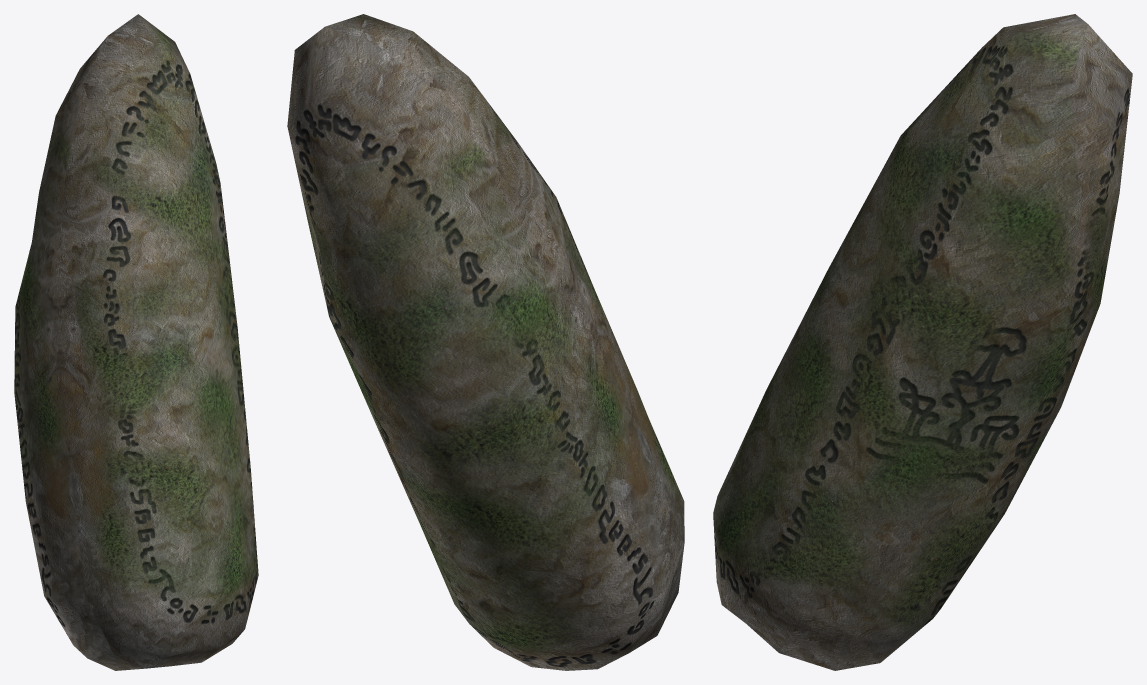
The model's file is RuneGlowStone7Shape.dae.
The picture shows the model from 3 angles, left to right: view 1: azimuth 30°, elevation 25°; view 2: azimuth 150°, elevation 25°; view 3: azimuth 270°, elevation 25°; orthographic projection. The views are drawn at different scales.
Visible parts, largest first — view 1: RuneGlowStone7; view 2: RuneGlowStone7; view 3: RuneGlowStone7.
Boxes of the visible parts, x1=… form: RuneGlowStone7: x1=14, y1=14, x2=258, y2=670; RuneGlowStone7: x1=287, y1=14, x2=684, y2=670; RuneGlowStone7: x1=713, y1=14, x2=1132, y2=670.
Size of the model in its own units: 3.87 by 9.35 by 5.23.
